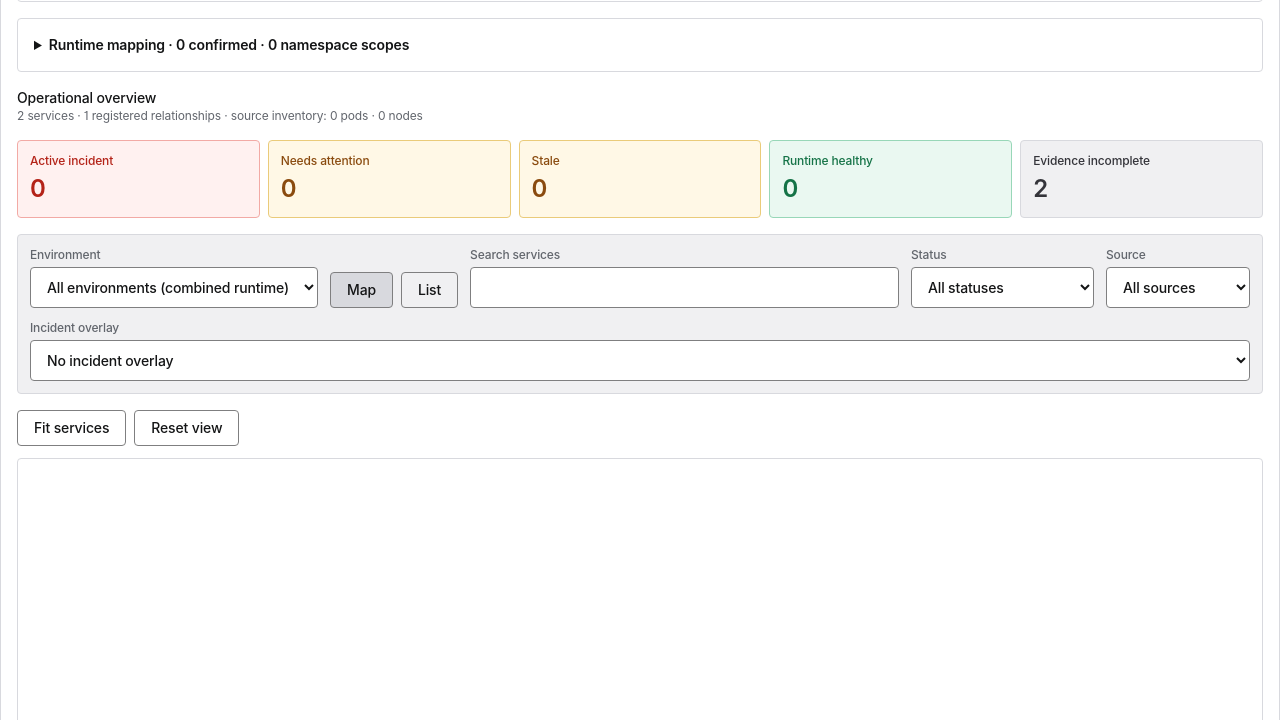
it: TopologyPanel blast-radius overlay › does not calculate impact for an unresolved conversation identity
This screenshot has width=1280, height=720.
(page scrolled)
Select "SEV2 · Incident i1" in the dropdown labelled "Incident overlay": (640, 360) [30,340,1250,381]
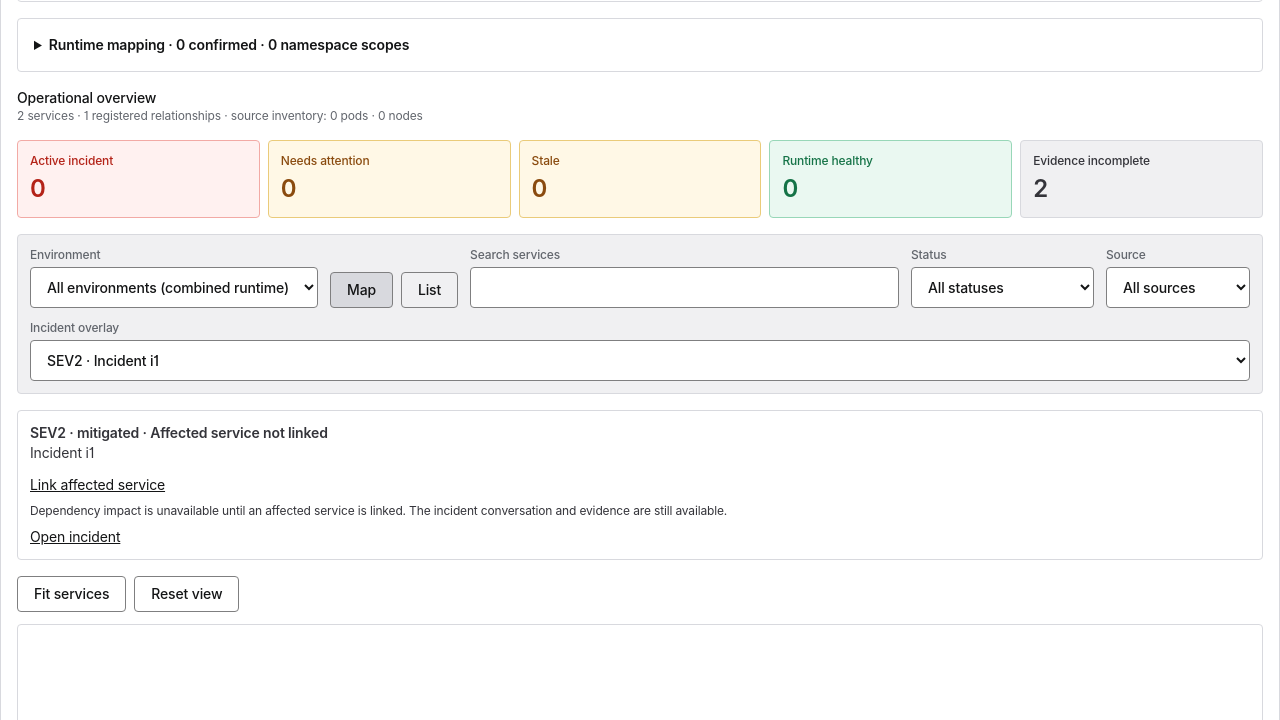
Expected: the text "Dependency impact is unavailable until an affected service is linked" is shown, [30,503,727,518]
